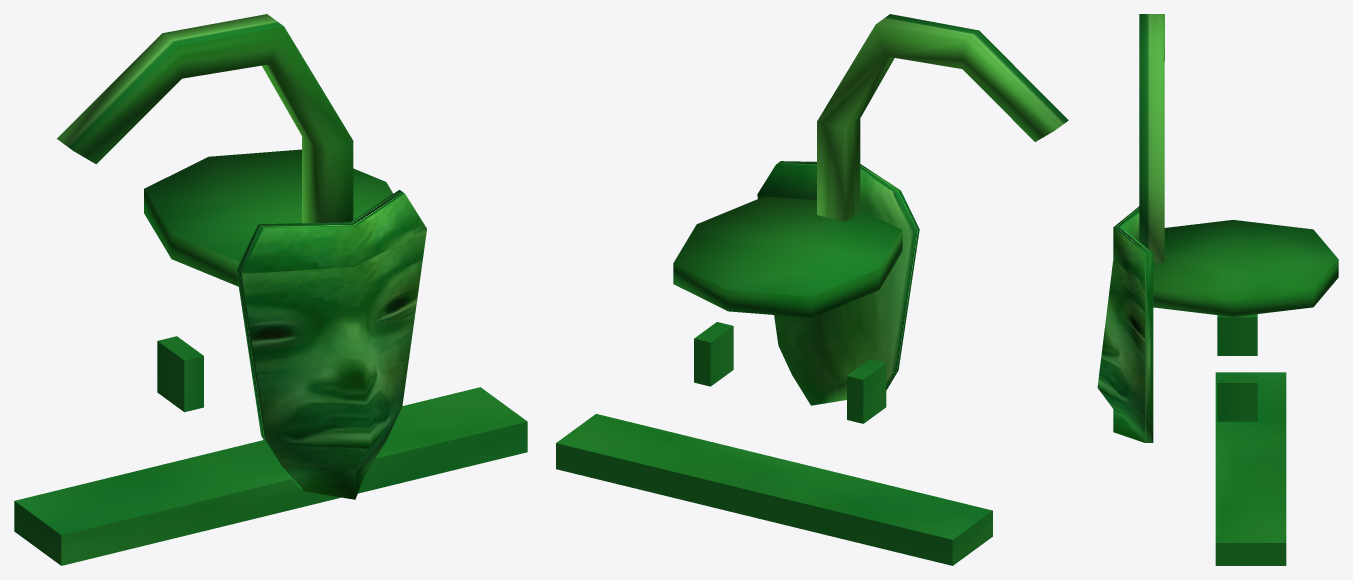
Rendered from masc_olmec_3.dae.
3 views of the same model, side by side, from view 1: azimuth 30°, elevation 25°; view 2: azimuth 150°, elevation 25°; view 3: azimuth 270°, elevation 25° (orthographic). The views are drawn at different scales.
Parts seen in each view (by area): view 1: olmec_masc_3; view 2: olmec_masc_3; view 3: olmec_masc_3.
Boxes of the visible parts, <box> form: olmec_masc_3: <box>14,14,527,565</box>; olmec_masc_3: <box>556,14,1068,565</box>; olmec_masc_3: <box>1097,14,1338,565</box>.
Size of the model in its own units: 1.12 by 0.6164 by 1.15.
